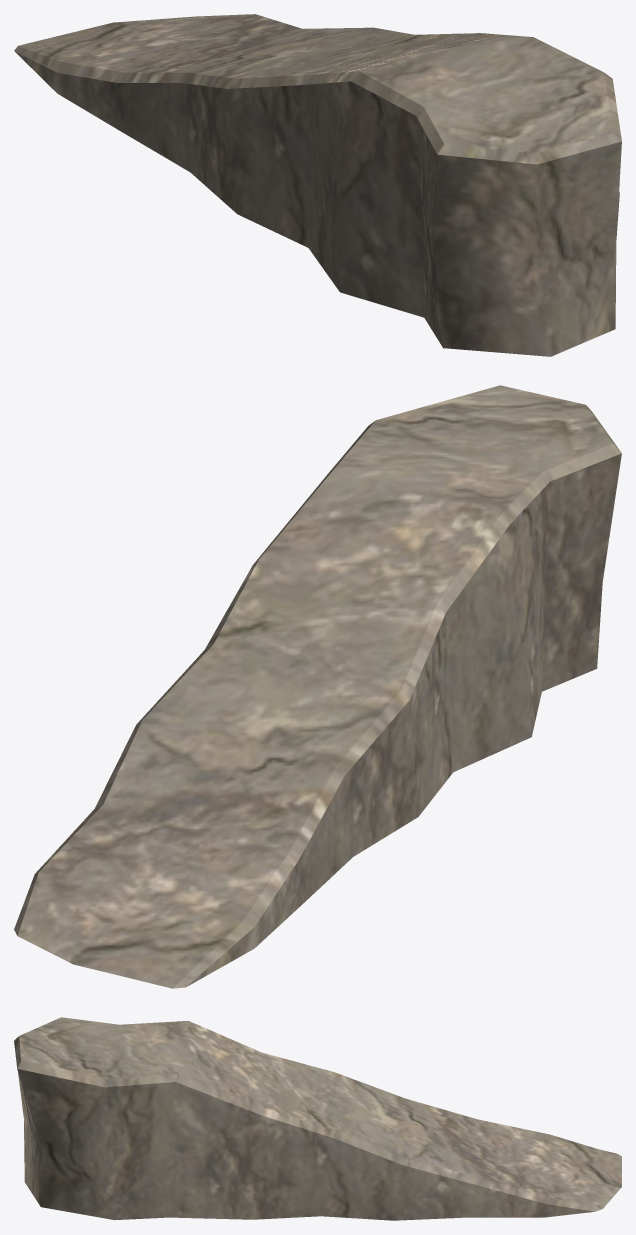
Rendered from rockPlatform1.fbx.
3 renders of one model, top to bottom at view 1: azimuth 30°, elevation 25°; view 2: azimuth 150°, elevation 25°; view 3: azimuth 270°, elevation 25°, orthographic. The views are drawn at different scales.
Visible parts, largest first — view 1: pPlane4; view 2: pPlane4; view 3: pPlane4.
Part boxes in pixels (left/top/right/bottom): pPlane4: left=14, top=14, right=621, bottom=356; pPlane4: left=14, top=385, right=621, bottom=988; pPlane4: left=14, top=1017, right=621, bottom=1220.
Size of the model in its own units: 1.22 by 1.07 by 4.22.
